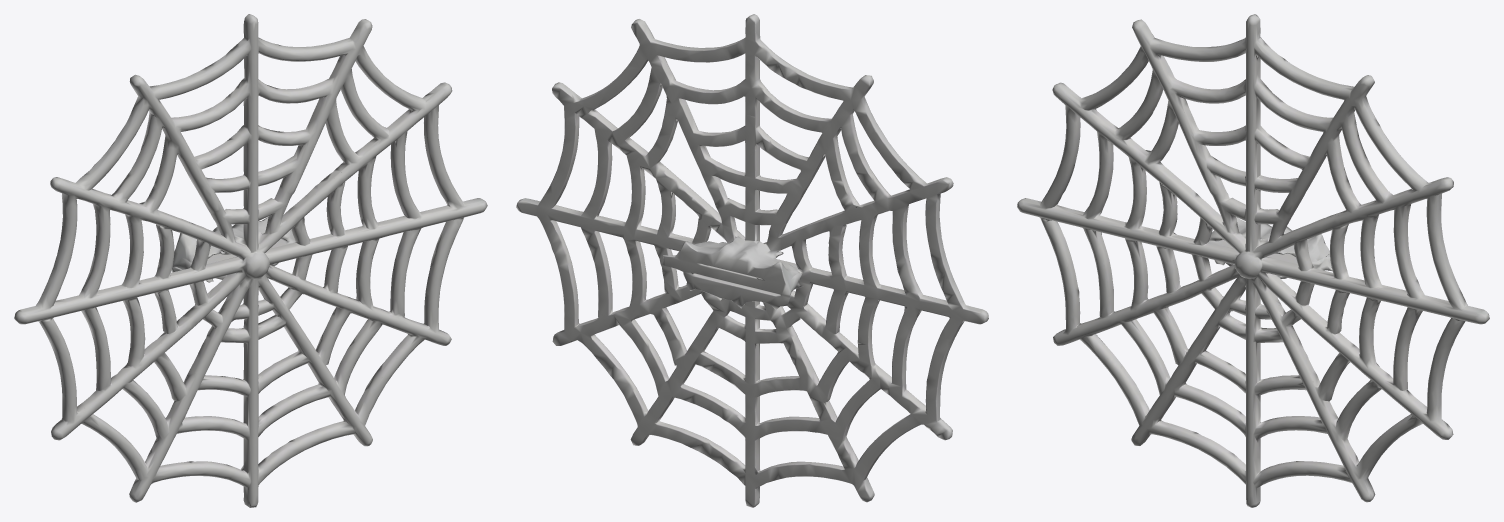
Rendered from tripo_convert_fec63bd7-d247-4be1-b617-6ec15749bf33.fbx.
The picture shows the model from 3 angles, left to right: view 1: azimuth 30°, elevation 25°; view 2: azimuth 150°, elevation 25°; view 3: azimuth 330°, elevation 25°; orthographic projection.
Parts seen in each view (by area): view 1: tripo_node_fec63bd7; view 2: tripo_node_fec63bd7; view 3: tripo_node_fec63bd7.
Part boxes in pixels (bbox=[...]): tripo_node_fec63bd7: bbox=[14, 14, 487, 507]; tripo_node_fec63bd7: bbox=[516, 14, 988, 507]; tripo_node_fec63bd7: bbox=[1017, 14, 1489, 507].
Bounding box in the file's own units: 0.9998 × 1 × 0.1176.
Materials: 1 (1 with a texture image).
